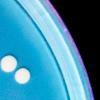white: (12, 65, 32, 86), (0, 52, 18, 74)
